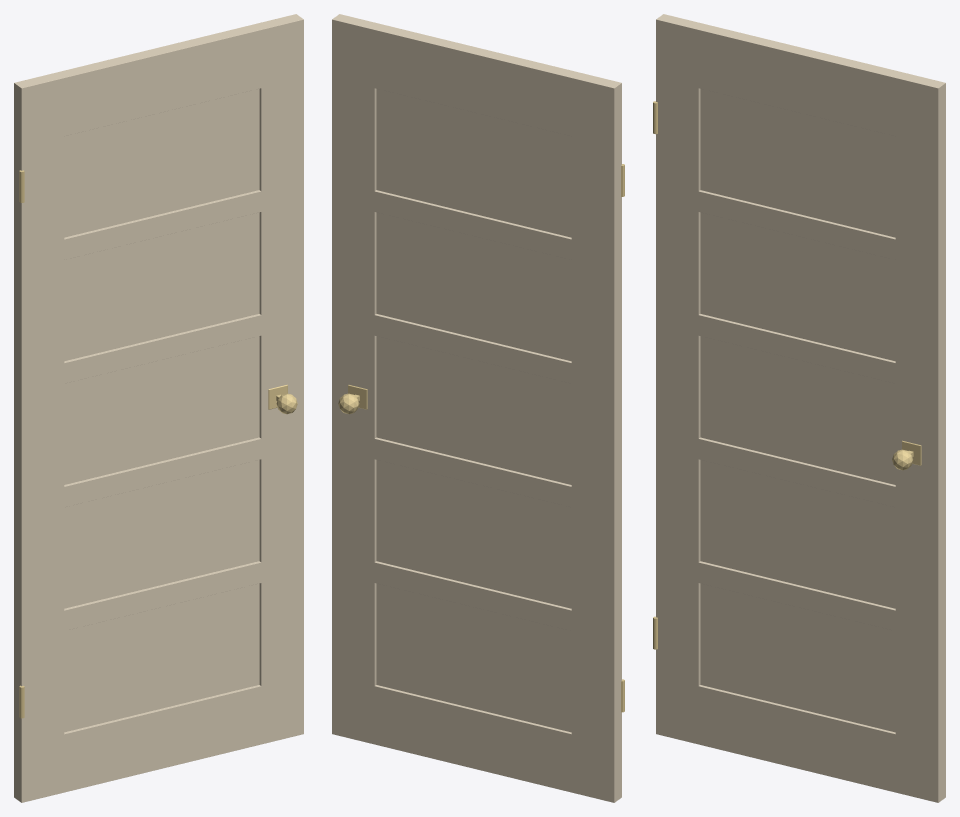
Rendered from door_int.glb.
The picture shows the model from 3 angles, left to right: view 1: azimuth 30°, elevation 25°; view 2: azimuth 150°, elevation 25°; view 3: azimuth 330°, elevation 25°; orthographic projection.
Parts seen in each view (by area): view 1: door_int_door_int, door_int_brass; view 2: door_int_door_int, door_int_brass; view 3: door_int_door_int, door_int_brass.
Boxes of the visible parts, x1,y1,x2,y2 form: door_int_door_int: (14, 14, 303, 802); door_int_brass: (19, 170, 297, 718); door_int_door_int: (332, 14, 621, 802); door_int_brass: (338, 164, 624, 712); door_int_door_int: (656, 14, 945, 802); door_int_brass: (653, 101, 921, 649).
Size of the model in its own units: 0.867 by 2.08 by 0.196.
